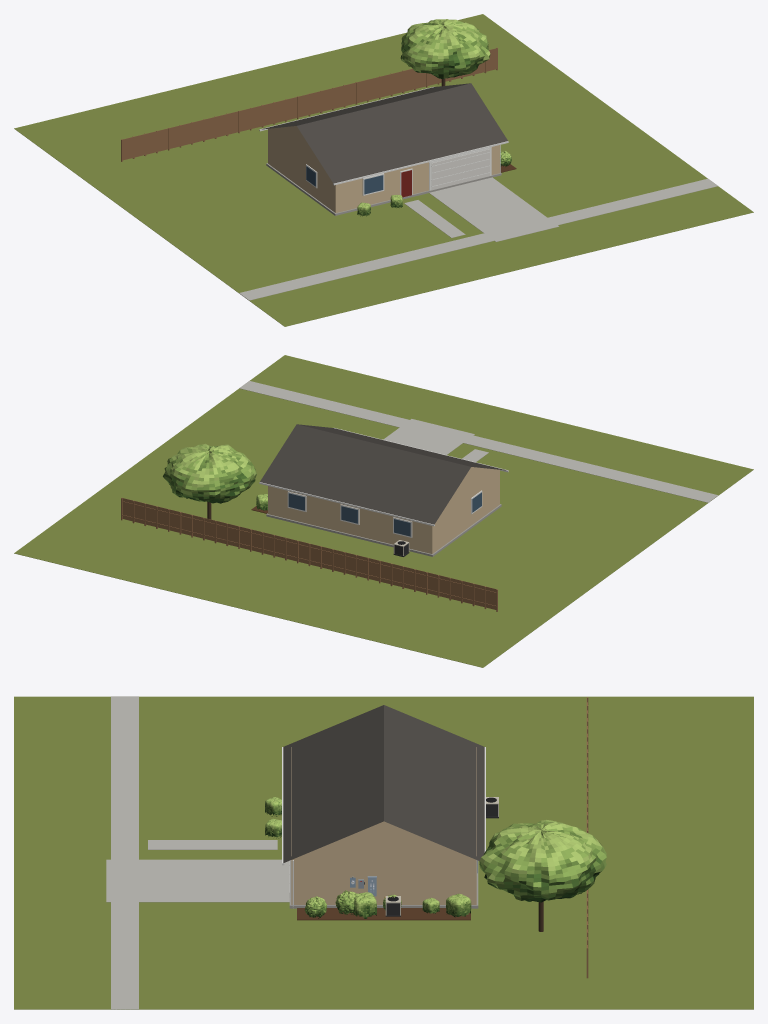
File: home_08_pre_install.obj
3 renders of one model, top to bottom at view 1: azimuth 30°, elevation 25°; view 2: azimuth 150°, elevation 25°; view 3: azimuth 270°, elevation 25°, orthographic. The views are drawn at different scales.
Parts seen in each view (by area): view 1: yard, house, tree_1; view 2: yard, house, tree_1; view 3: yard, house, tree_1, mulch_bed_side, bush_boxwood_5.
Boxes of the visible parts, box(x1,y1,x2,y2) form: yard: box(14, 14, 753, 326); house: box(259, 83, 508, 215); tree_1: box(400, 19, 490, 86); yard: box(14, 355, 753, 667); house: box(259, 424, 508, 556); tree_1: box(163, 443, 256, 519); yard: box(14, 696, 753, 1009); house: box(282, 705, 485, 908); tree_1: box(479, 820, 606, 931); mulch_bed_side: box(297, 908, 470, 920); bush_boxwood_5: box(353, 892, 376, 918).
Bounding box in the file's own units: 40 × 6.12 × 40.
